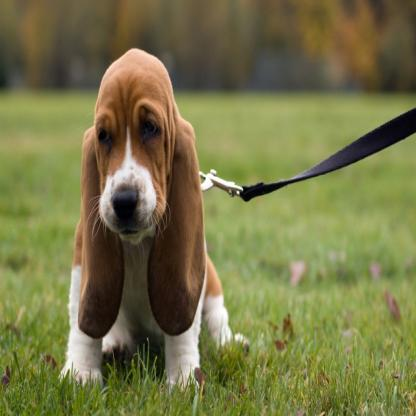Basset Hound: (58, 37, 238, 397)
